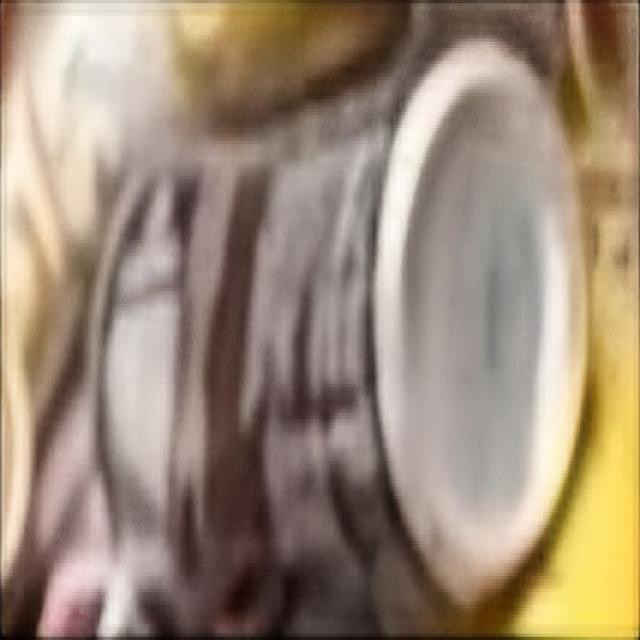can: (31, 0, 640, 621)
